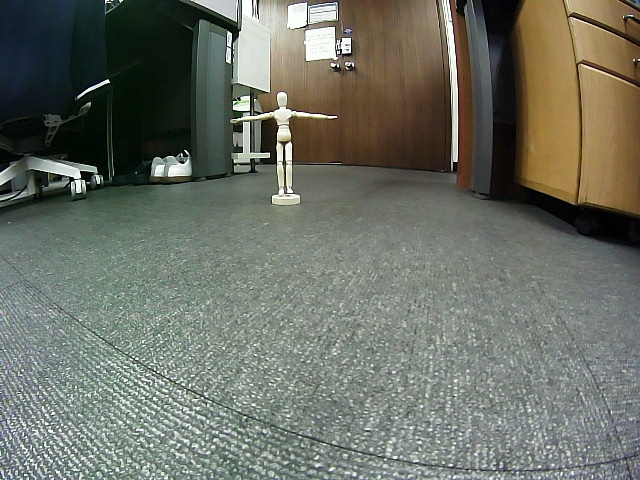person: (229, 90, 338, 195)
